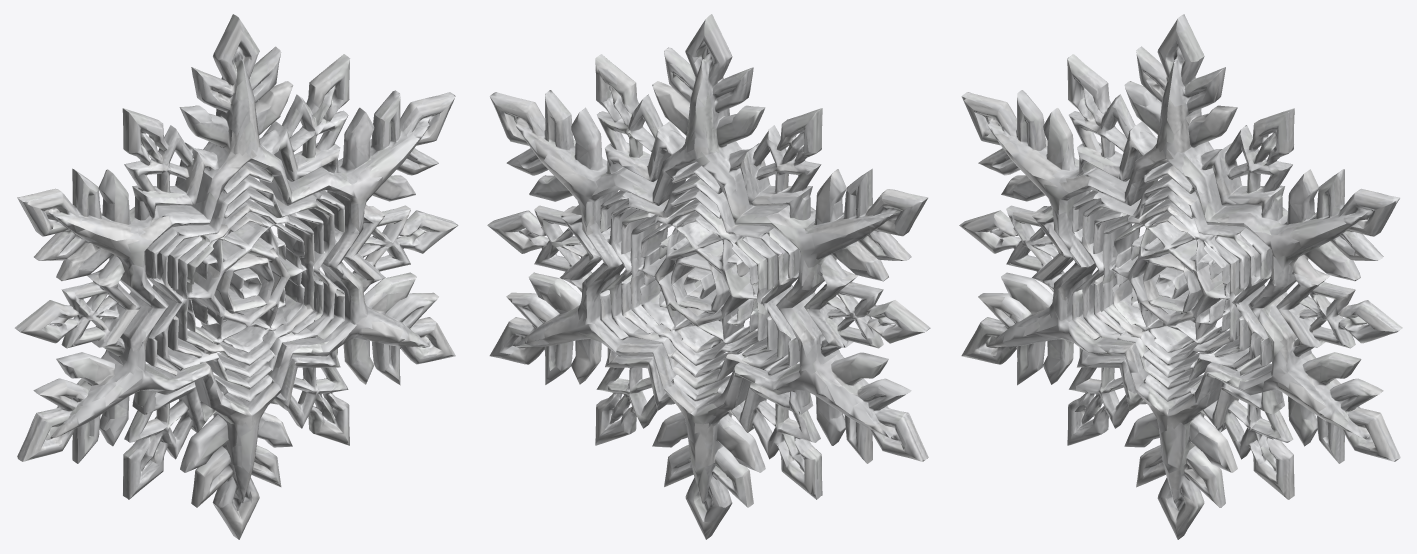
3 renders of one model, left to right at view 1: azimuth 30°, elevation 25°; view 2: azimuth 150°, elevation 25°; view 3: azimuth 330°, elevation 25°, orthographic.
Visible parts, largest first — view 1: Mesh_0; view 2: Mesh_0; view 3: Mesh_0.
Boxes of the visible parts, box(x1,y1,x2,y2) form: Mesh_0: box(14, 14, 458, 539); Mesh_0: box(487, 14, 930, 539); Mesh_0: box(959, 14, 1402, 539).
Size of the model in its own units: 1.67 by 1.9 by 0.2007.
Materials: 1 (1 with a texture image).
